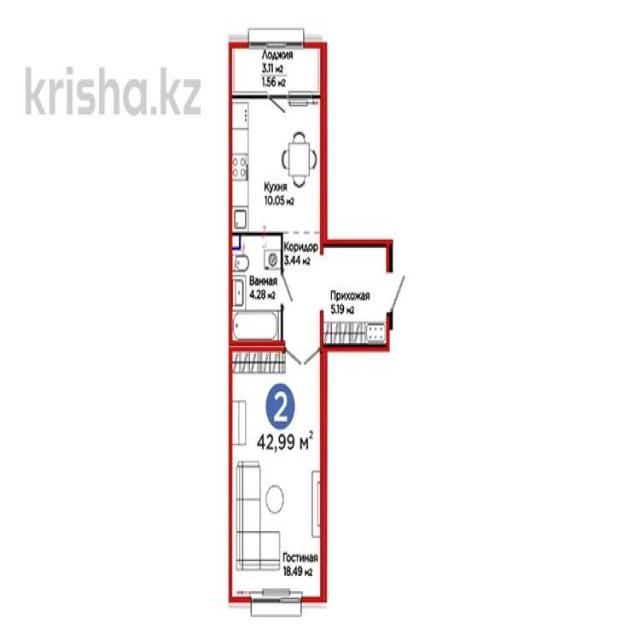balcony: (230, 45, 322, 97)
bathroom: (230, 234, 282, 346)
hallway: (322, 243, 390, 345), (282, 236, 323, 352)
kitchen: (230, 100, 326, 234)
living_room: (232, 351, 325, 601)
